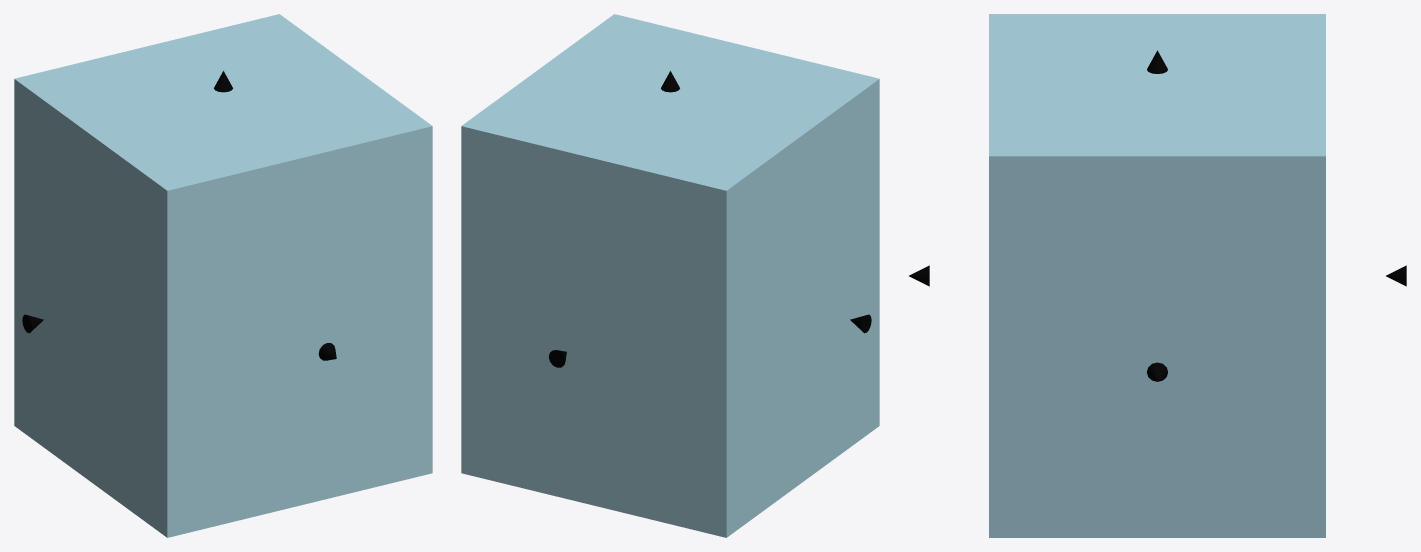
The model's file is surface_graph.obj.
3 views of the same model, side by side, from view 1: azimuth 30°, elevation 25°; view 2: azimuth 150°, elevation 25°; view 3: azimuth 270°, elevation 25° (orthographic). The views are drawn at different scales.
Visible parts, largest first — view 1: grp852; view 2: grp852; view 3: grp852.
Boxes of the visible parts, x1,y1,x2,y2 form: grp852: (14,14,432,537); grp852: (461,14,879,537); grp852: (989,14,1325,537).
Size of the model in its own units: 29.59 by 29.59 by 29.59.
